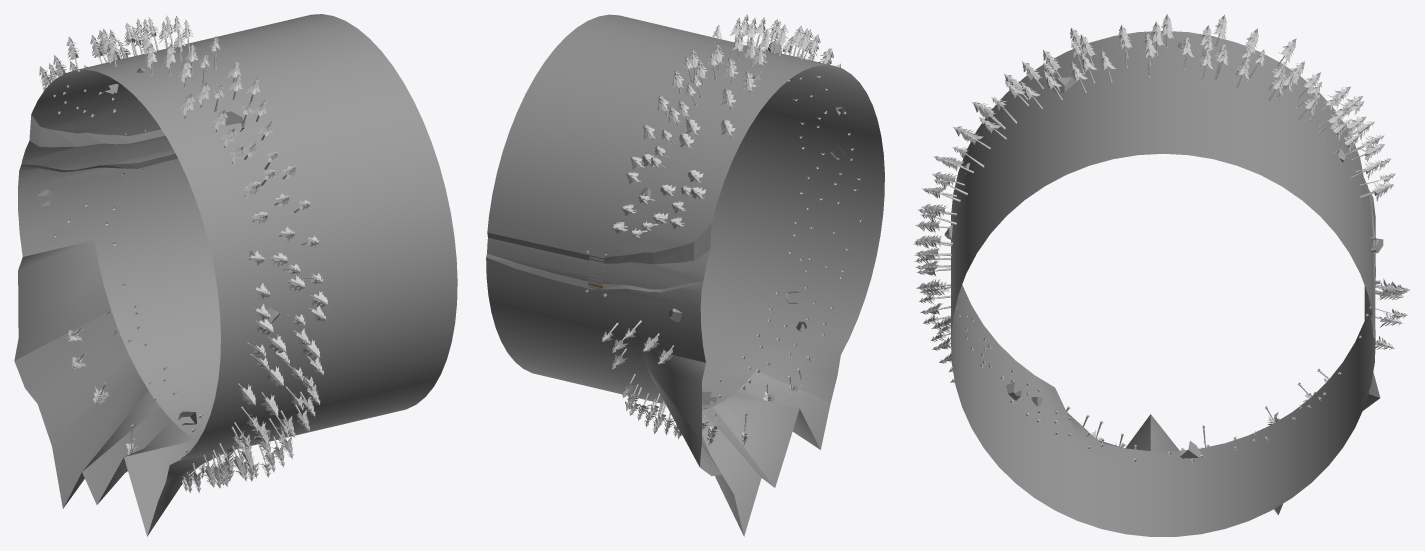
Rendered from SM_LEVEL_02.FBX.
3 renders of one model, left to right at view 1: azimuth 30°, elevation 25°; view 2: azimuth 150°, elevation 25°; view 3: azimuth 270°, elevation 25°, orthographic. The views are drawn at different scales.
Parts seen in each view (by area): view 1: Tube001, Object173; view 2: Tube001, Object173; view 3: Tube001, Object173.
Boxes of the visible parts, bbox=[...] form: Tube001: bbox=[14, 14, 457, 536]; Object173: bbox=[126, 40, 343, 437]; Tube001: bbox=[486, 14, 884, 536]; Object173: bbox=[589, 39, 786, 400]; Tube001: bbox=[944, 31, 1383, 536]; Object173: bbox=[951, 87, 1371, 477].
Size of the model in its own units: 890 by 1757 by 1523.
